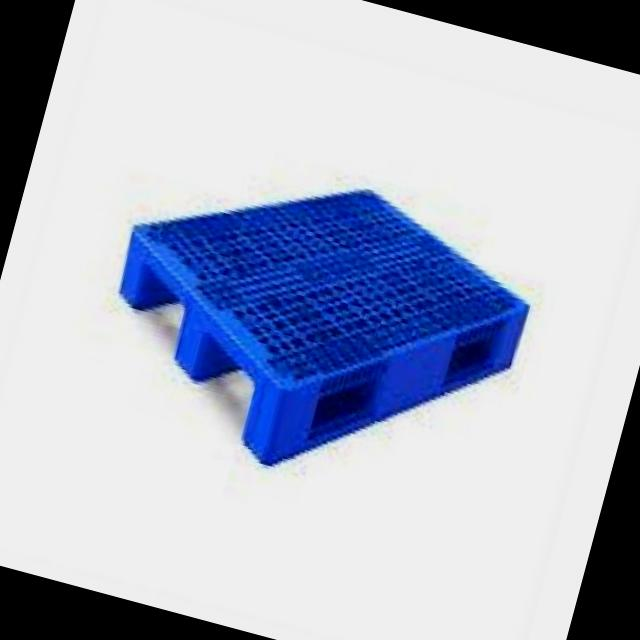pallet: (65, 117, 567, 539)
